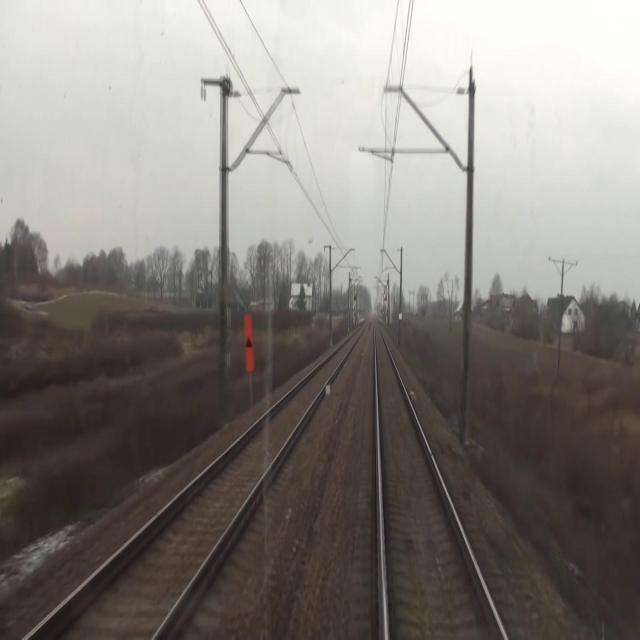rail-track: (30, 332, 359, 639), (376, 321, 503, 639)
